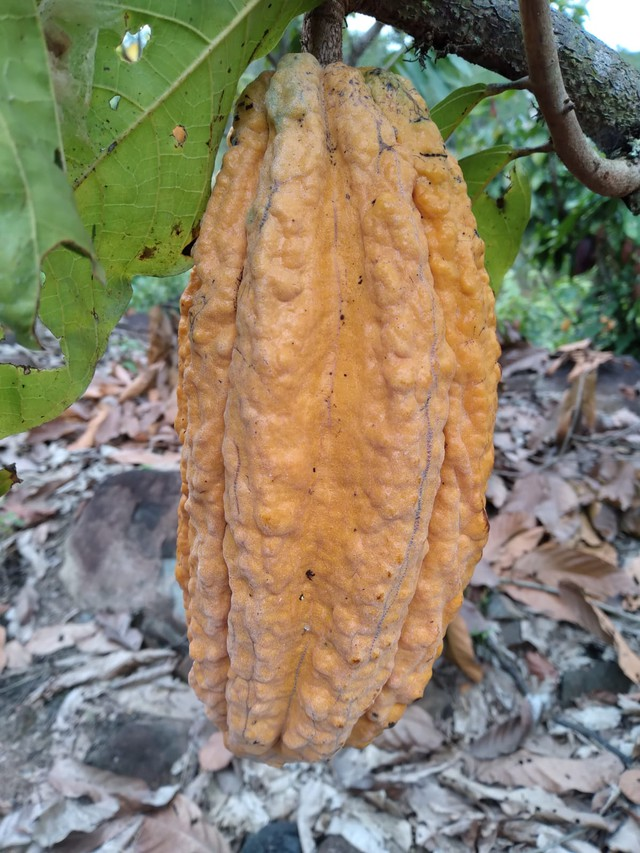Health: (170, 49, 508, 770)
